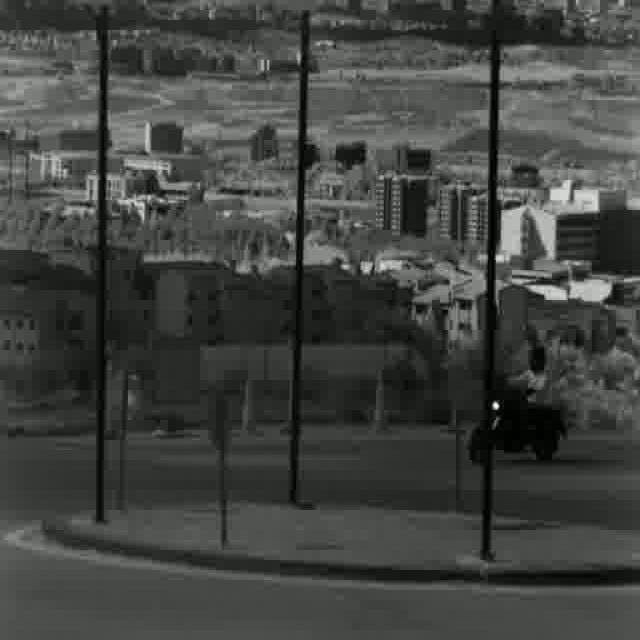Motorcycle: (463, 347, 568, 464)
